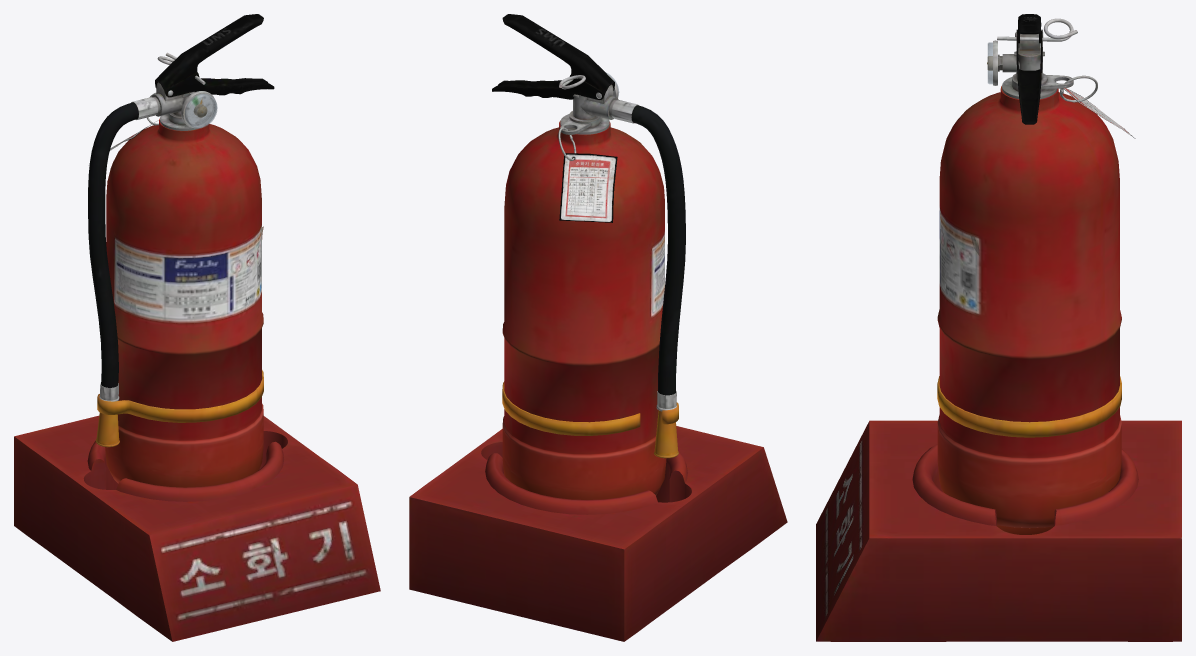
The model's file is extinguisher.glb.
3 renders of one model, left to right at view 1: azimuth 30°, elevation 25°; view 2: azimuth 150°, elevation 25°; view 3: azimuth 270°, elevation 25°, orthographic. The views are drawn at different scales.
Parts seen in each view (by area): view 1: korean_fire_extinguisher_01; view 2: korean_fire_extinguisher_01; view 3: korean_fire_extinguisher_01.
Boxes of the visible parts, x1,y1,x2,y2 form: korean_fire_extinguisher_01: (14, 14, 380, 641); korean_fire_extinguisher_01: (409, 14, 787, 641); korean_fire_extinguisher_01: (816, 14, 1181, 641).
Bounding box in the file's own units: 0.28 × 0.6593 × 0.3674.
3 materials, 3 textured.
